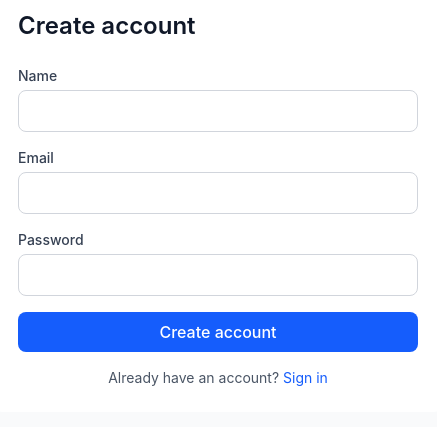
it: RegisterPage › shows invalid email error when email format is wrong
Type "Alice" into the field labelled "Name" at (218, 111), box [18,90,418,132]
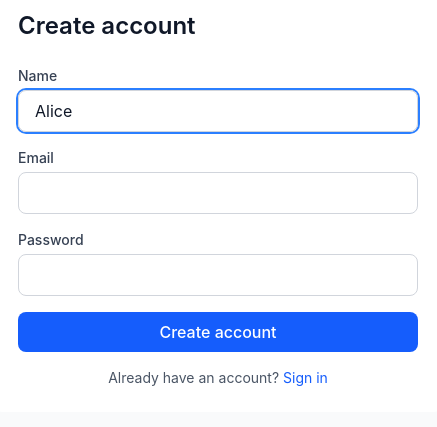
Type "bad-email" into the field labelled "Email" at (218, 193), box [18,172,418,214]
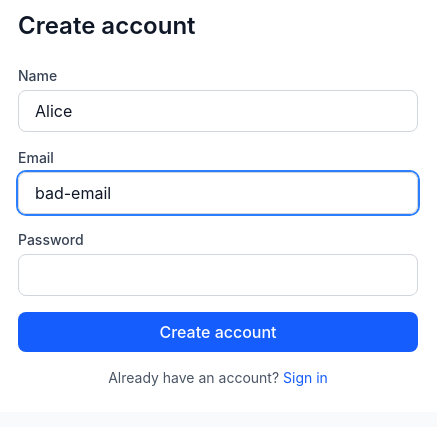
Type "password123" into the password field labelled "Password" at (218, 275), box [18,254,418,296]
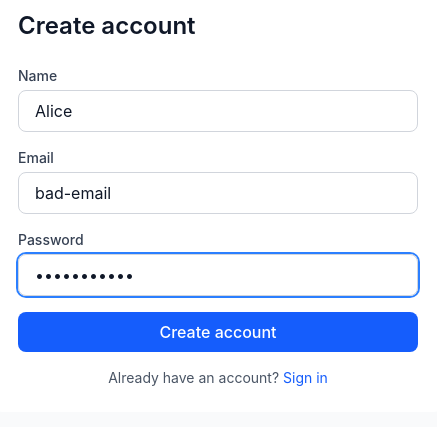
Click the button "Create account" at (218, 332), box [18,312,418,352]
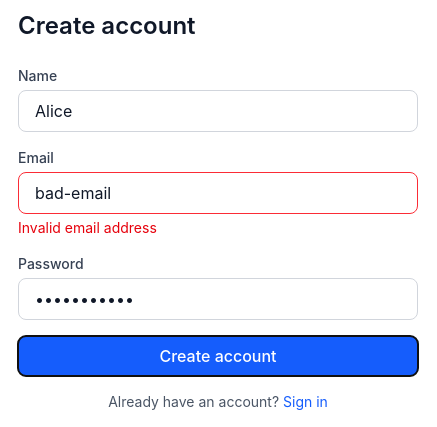
Now the text "Invalid email address" is shown, box [18,219,157,236]
